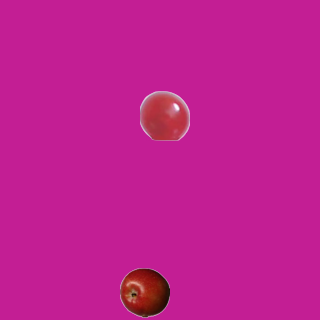Apple Braeburn: (119, 267, 169, 317)
Redcurrant: (139, 90, 189, 140)
